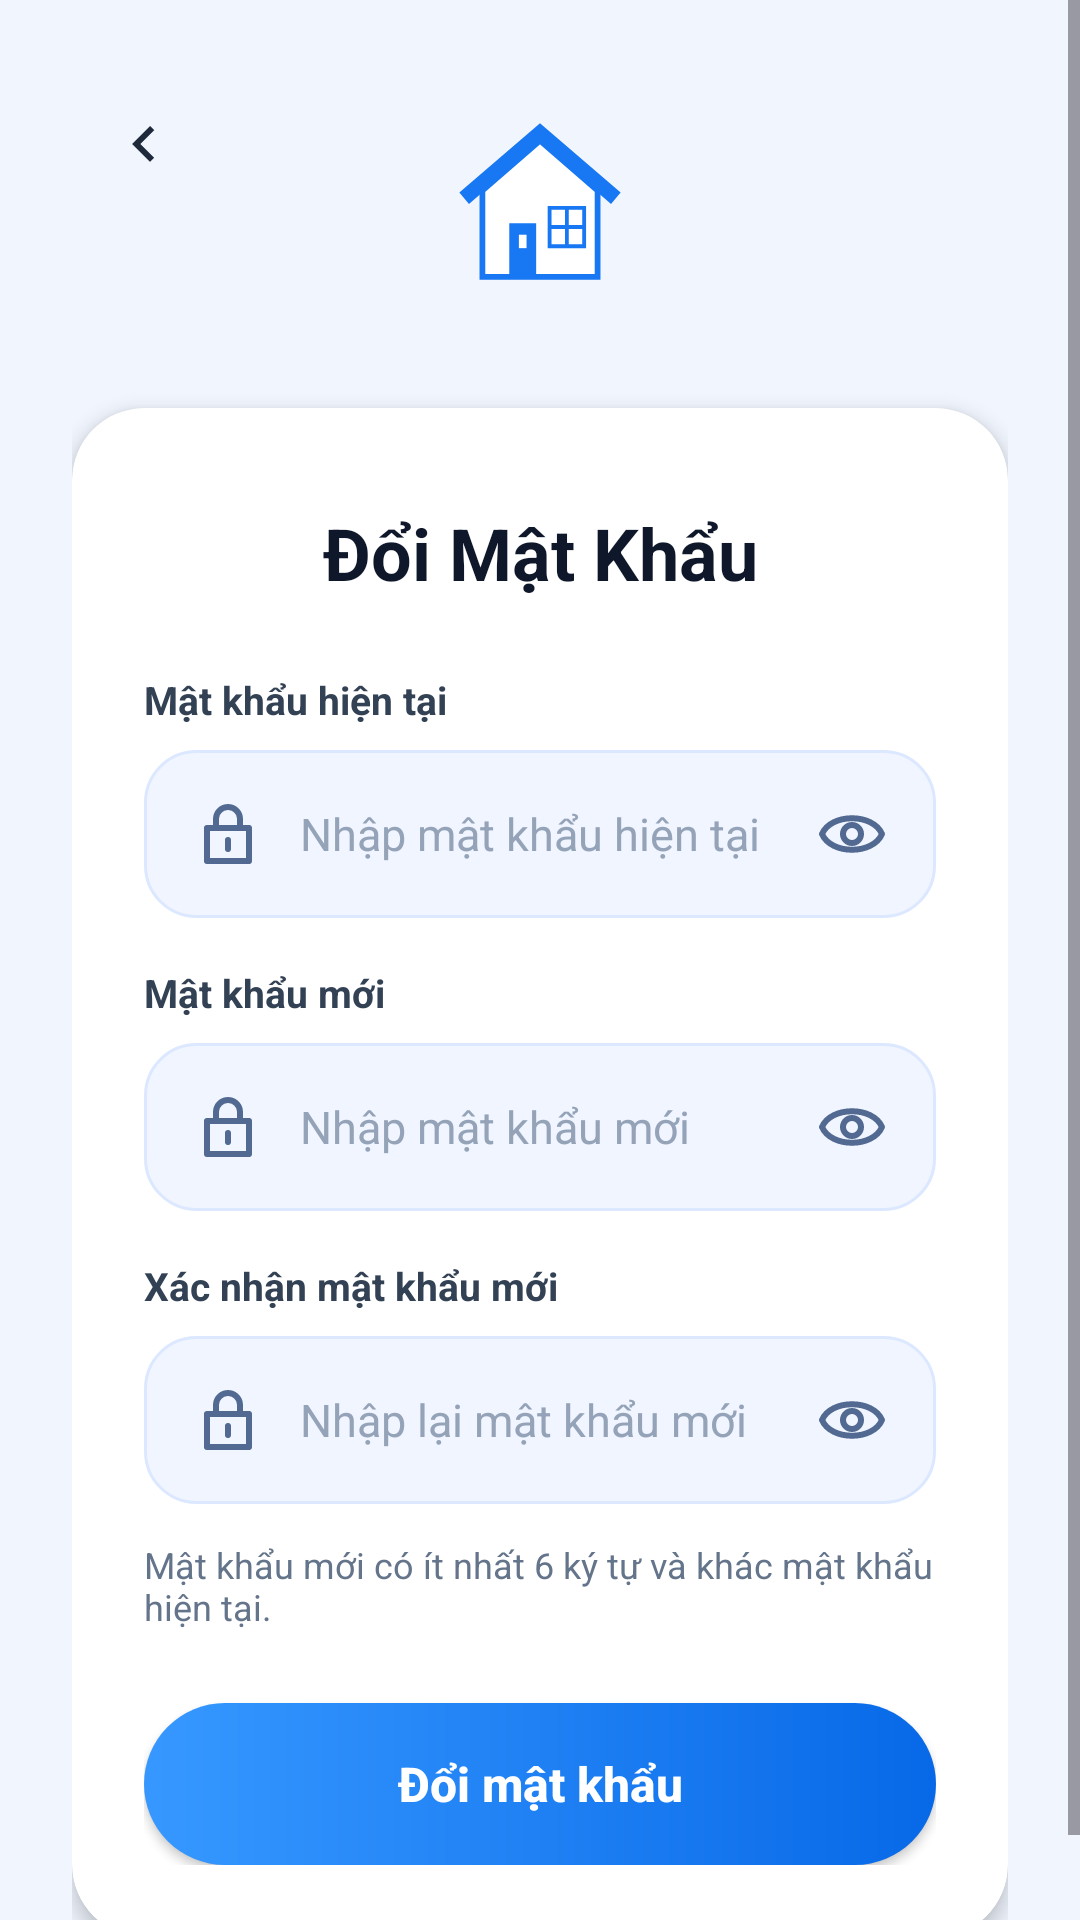

Locate icon controls on the screen. Image size 1080×1920, boxes as bbox=(x1, y1, x2, y2).
house: bbox=(459, 123, 621, 280)
Quay lại: bbox=(132, 126, 154, 162)
